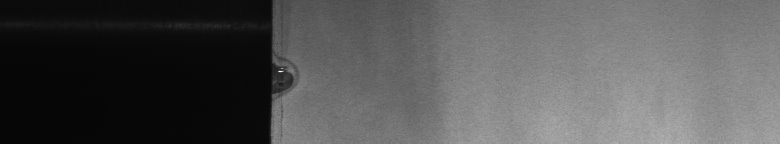hb: (284, 55, 304, 101)
